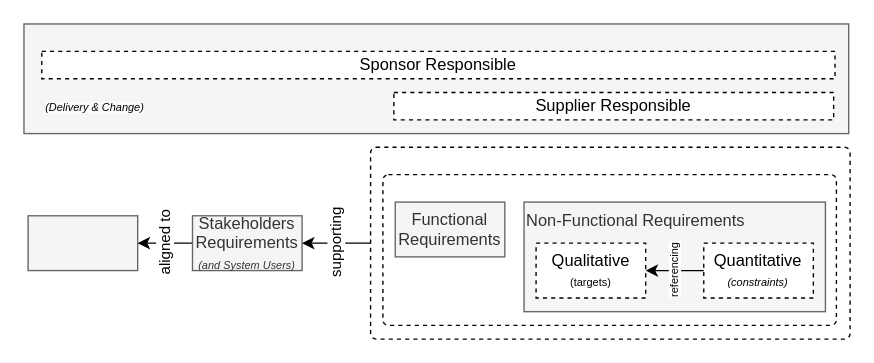
The diagram is 874 pixels wide and 363 high, and some of its shapes have lost their labels. The shapes that lost their labels are listed below. From the top down, each one's box as (x1, y1, x2, y2) in pixels, then its label:
(23, 23, 849, 134): Transitional Requirements
(27, 214, 138, 271): Business Requirements (Why & Value)
(382, 173, 836, 325): System
(369, 146, 850, 339): Solution
